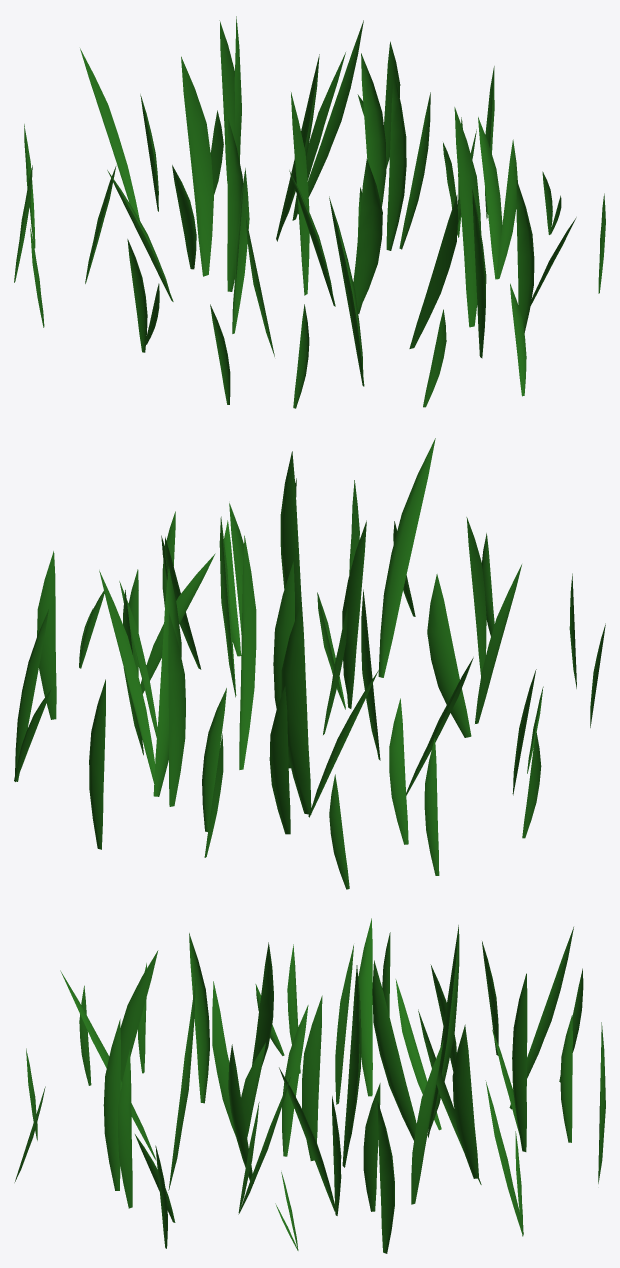
Rendered from GRASS_area.fbx.
The picture shows the model from 3 angles, top to bottom: view 1: azimuth 30°, elevation 25°; view 2: azimuth 150°, elevation 25°; view 3: azimuth 270°, elevation 25°; orthographic projection. The views are drawn at different scales.
Parts seen in each view (by area): view 1: grass; view 2: grass; view 3: grass.
Part boxes in pixels (bbox=[...]): grass: bbox=[14, 16, 605, 408]; grass: bbox=[14, 438, 605, 889]; grass: bbox=[14, 918, 605, 1253].
Bounding box in the file's own units: 429 × 193 × 463.
